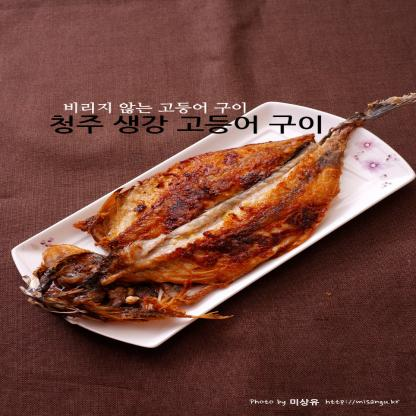Peixe: (20, 92, 411, 330)
